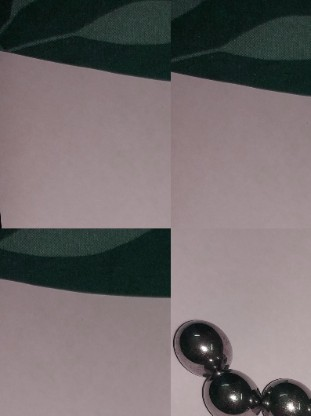ironball: (170, 315, 233, 376), (202, 364, 264, 414), (258, 373, 309, 414)
